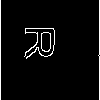R: (24, 24, 62, 60)
